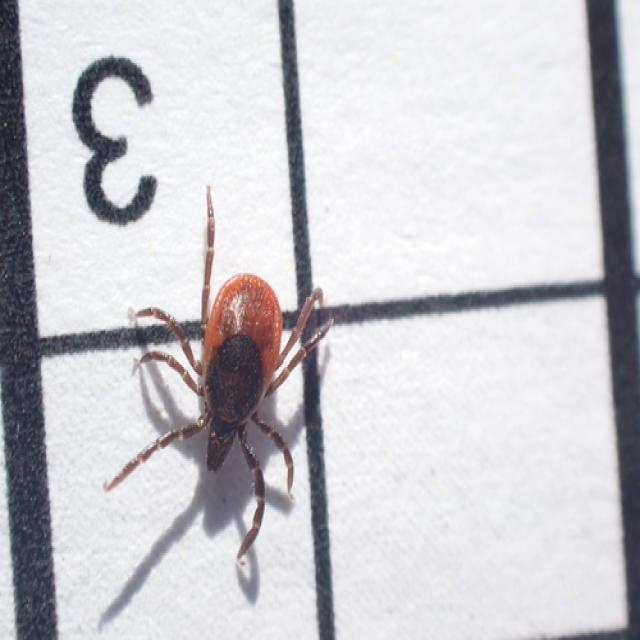Ixodes Ricinus-F: (134, 184, 335, 561)
